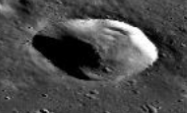crater: (9, 5, 176, 98)
